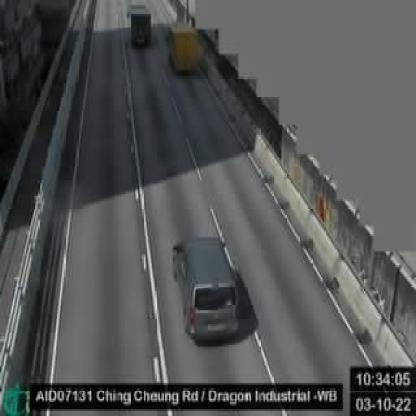Car: (172, 234, 240, 335)
Truck: (166, 26, 199, 76), (127, 7, 151, 47)
